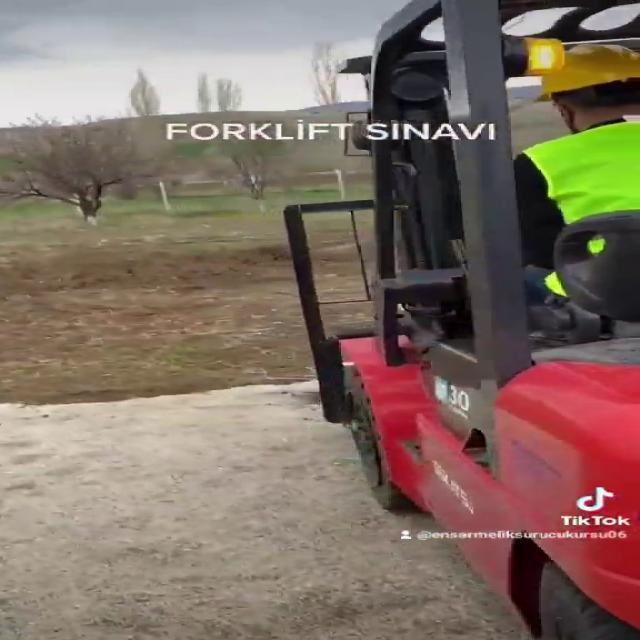forklift: (274, 36, 640, 640)
